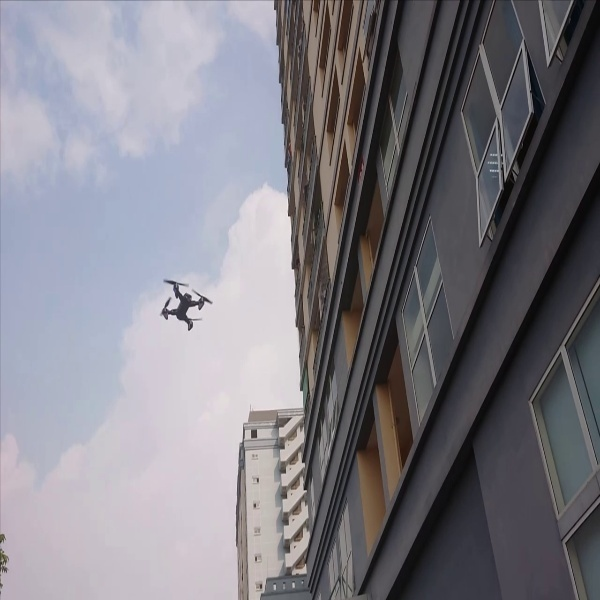drone: (153, 274, 214, 333)
